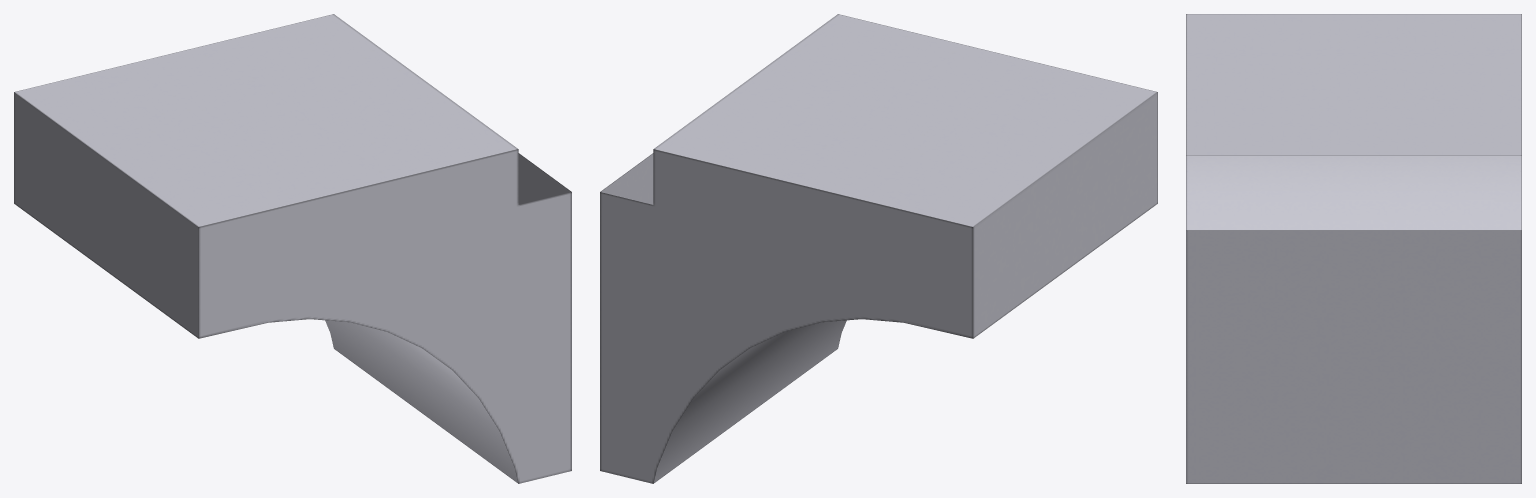
The model's file is Wall_Roof_Half_04.FBX.
3 views of the same model, side by side, from view 1: azimuth 30°, elevation 25°; view 2: azimuth 150°, elevation 25°; view 3: azimuth 270°, elevation 25° (orthographic). The views are drawn at different scales.
Parts seen in each view (by area): view 1: Wall_Roof_Half_04; view 2: Wall_Roof_Half_04; view 3: Wall_Roof_Half_04.
Part boxes in pixels (x1,y1,x2,y2): Wall_Roof_Half_04: [14, 14, 571, 483]; Wall_Roof_Half_04: [600, 14, 1157, 483]; Wall_Roof_Half_04: [1186, 14, 1521, 483].
Size of the model in its own units: 7 by 6 by 6.
